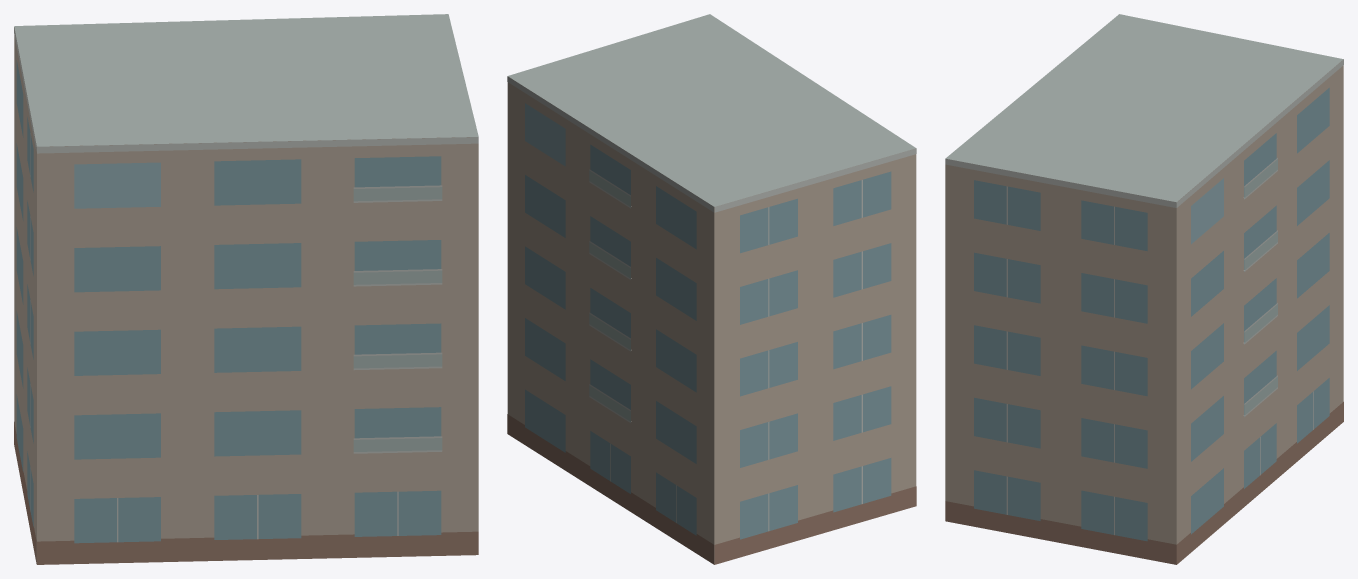
Rendered from survey-upis-32852755.glb.
3 views of the same model, side by side, from view 1: azimuth 30°, elevation 25°; view 2: azimuth 150°, elevation 25°; view 3: azimuth 270°, elevation 25° (orthographic). The views are drawn at different scales.
Parts seen in each view (by area): view 1: survey-upis-32852755.tmp; view 2: survey-upis-32852755.tmp; view 3: survey-upis-32852755.tmp.
Boxes of the visible parts, box(x1,y1,x2,y2) form: survey-upis-32852755.tmp: box(14, 14, 478, 564); survey-upis-32852755.tmp: box(507, 14, 916, 564); survey-upis-32852755.tmp: box(945, 14, 1343, 564).
Size of the model in its own units: 16.71 by 15 by 14.95.
